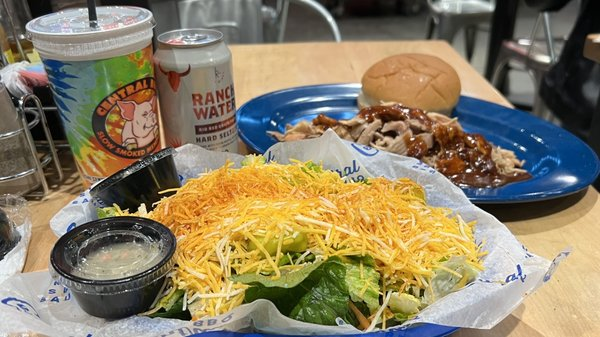soup: (143, 153, 490, 330)
sushi: (48, 216, 177, 320)
